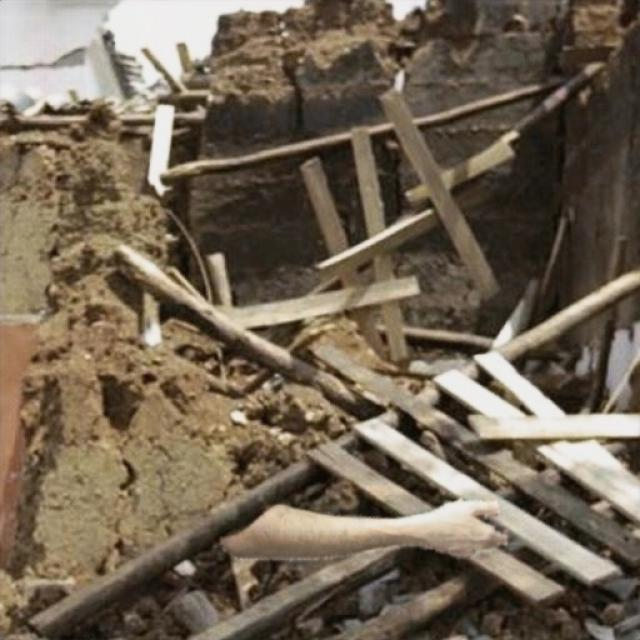Person in Rubble: (220, 499, 506, 560)
